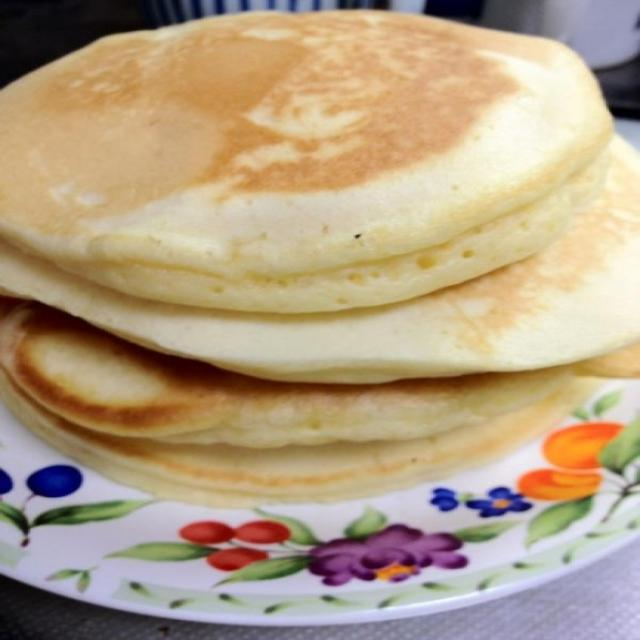面条主食: (0, 26, 632, 522)
